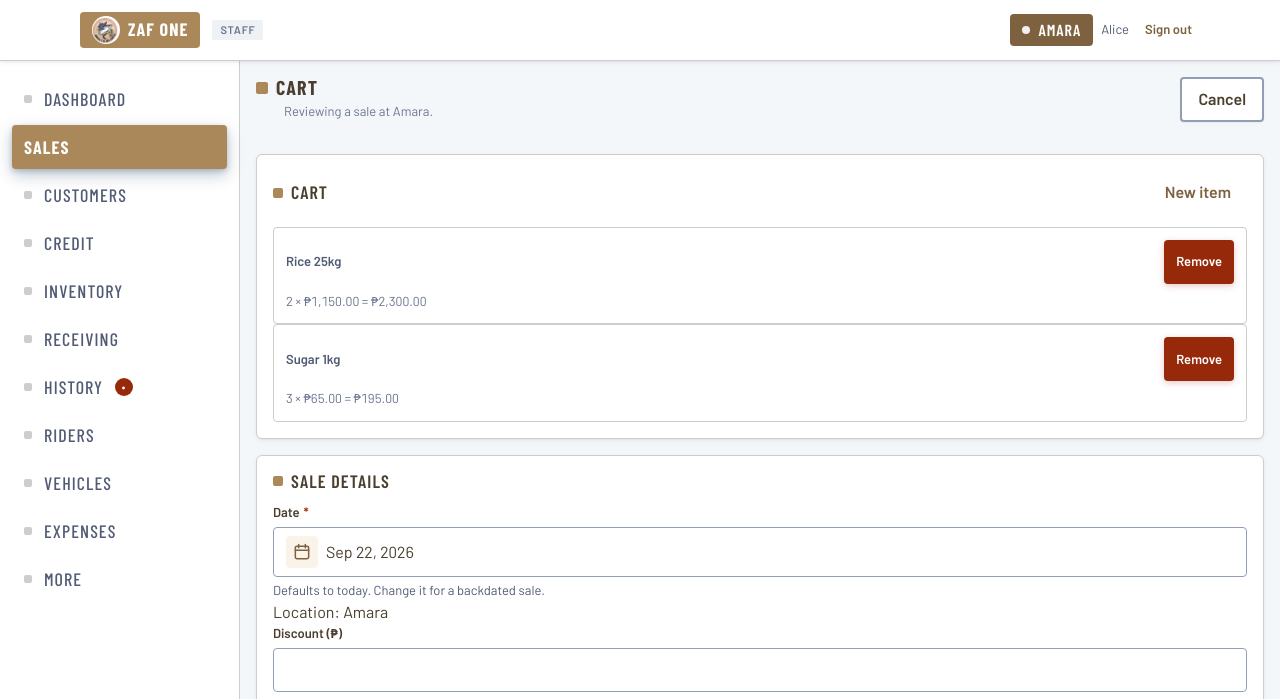
SaleCartPage › removes an item from the cart
What coordinates should you click on to do the following:
click the button with aria-label "Remove Sugar 1kg"
I would click on:
 (1199, 360)
Its box is [1164,338,1234,382].
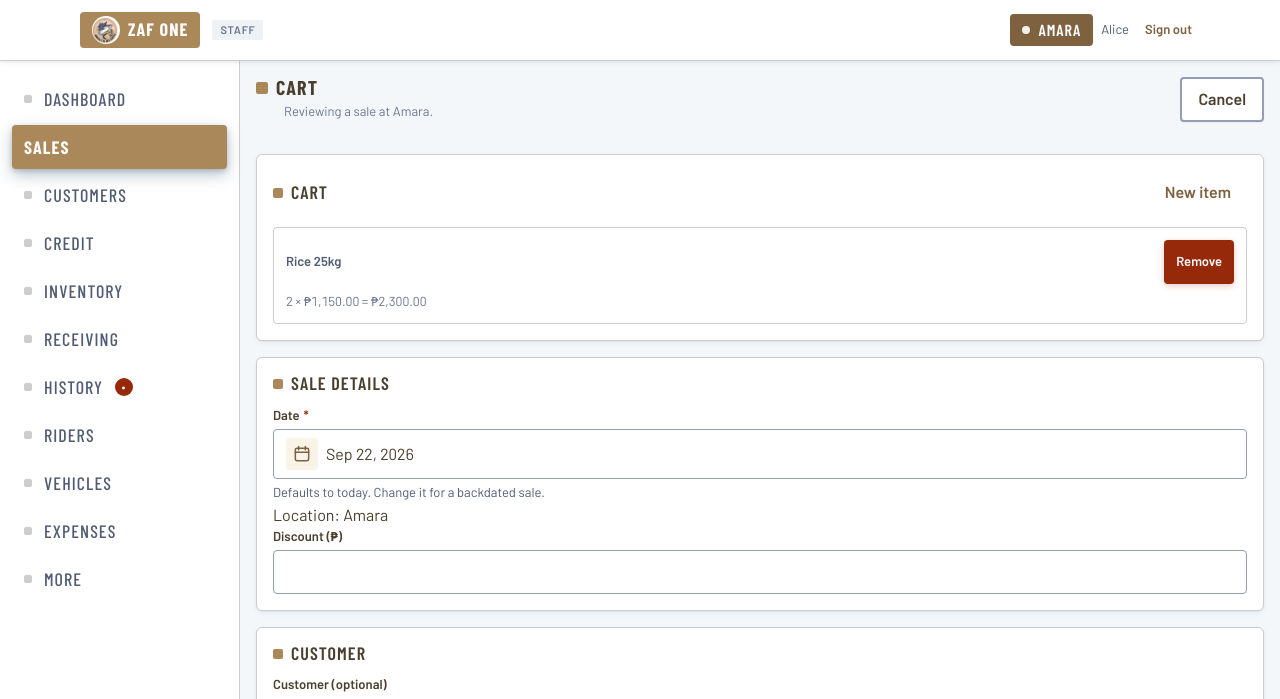
Expected: the text "Rice 25kg" is shown, [286,252,341,272]
Expected: the text "Sugar 1kg" is gone
